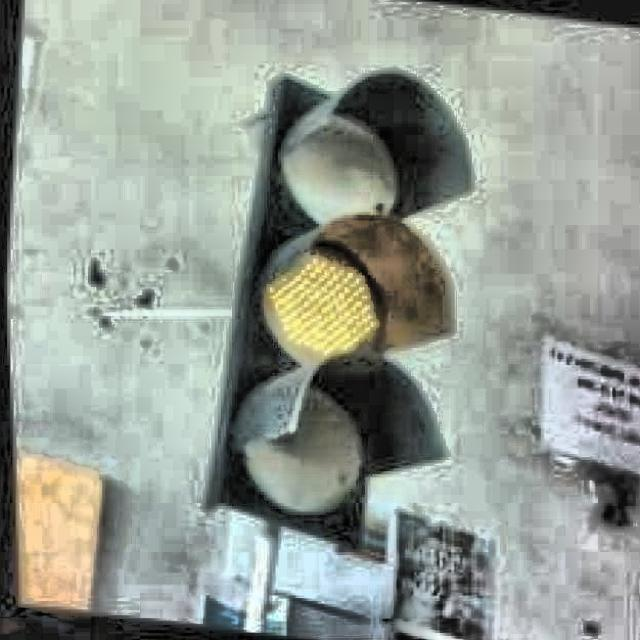yellow: (217, 87, 432, 523)
